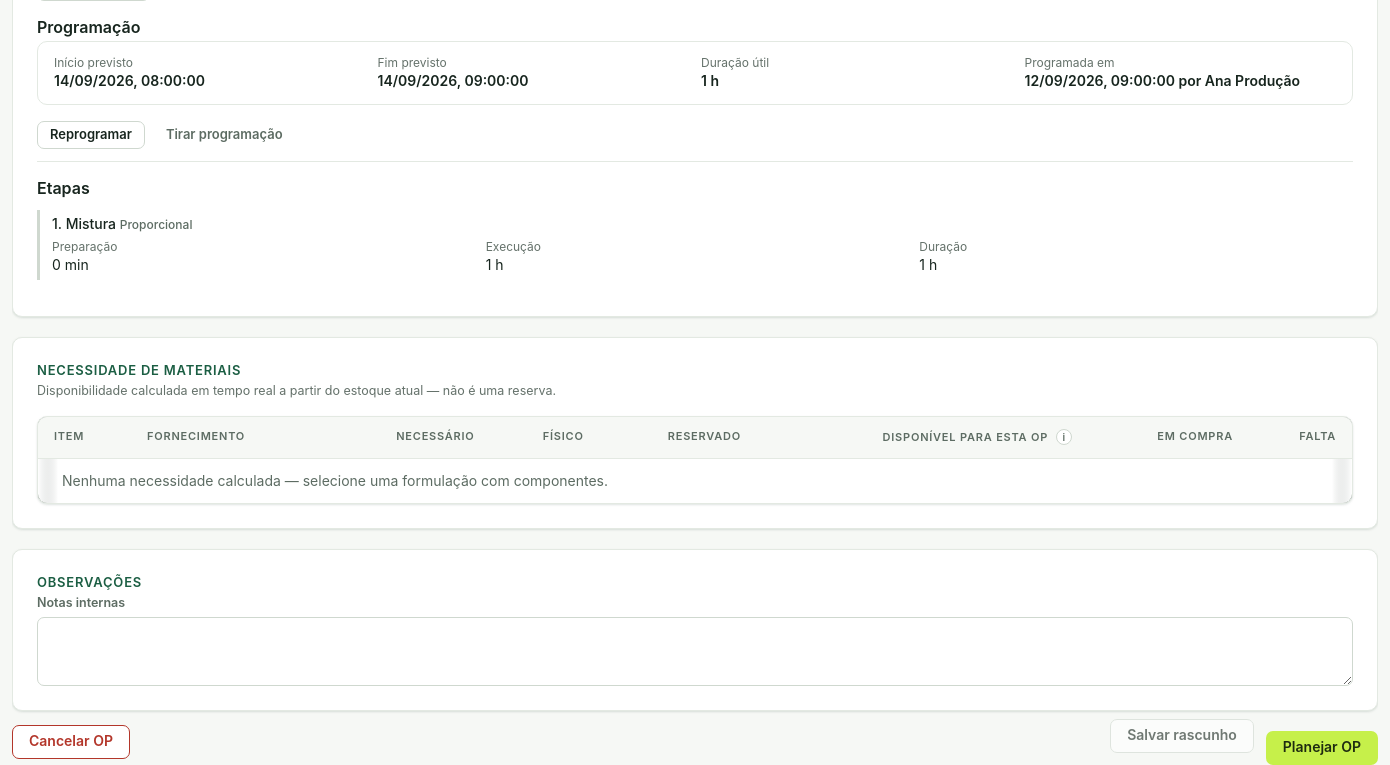
it: OP em rascunho — quando NÃO se pergunta › "Salvando…" enquanto espera, a frase só com a resposta, e salvar volta a dormir
(page scrolled)
Check: the element named "Programação da ordem" is shown, box [37,41,1353,105]
Type "Conferir embalagem" into the text box with id "op-notes".
click(695, 651); type("Conferir embalagem")  # box [37,616,1353,686]
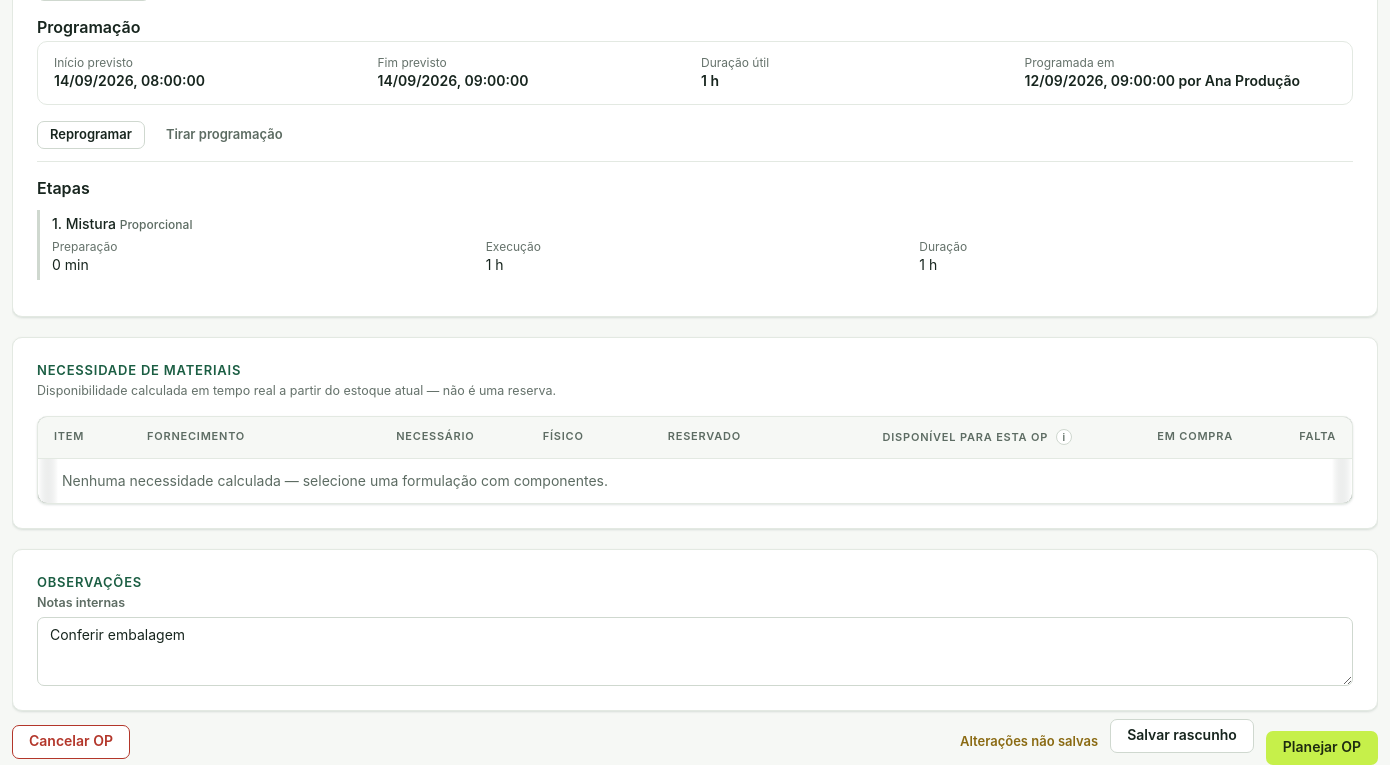
Click the button "Salvar rascunho".
click(1182, 736)  # box [1110,718,1254,752]
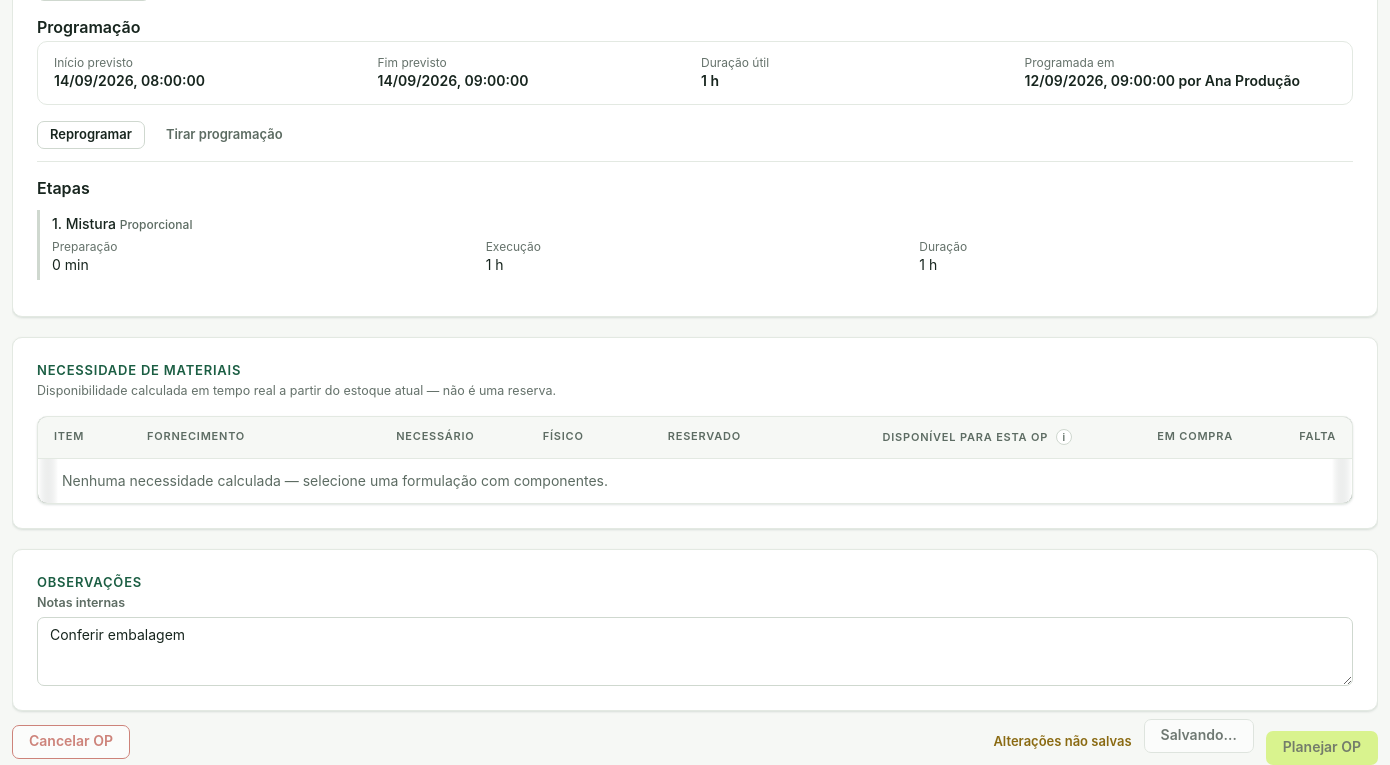
Check: the button "Salvando…" is disabled, box [1144,718,1254,752]
Clear the text box with id "op-notes" at (695, 651), box [37,616,1353,686]
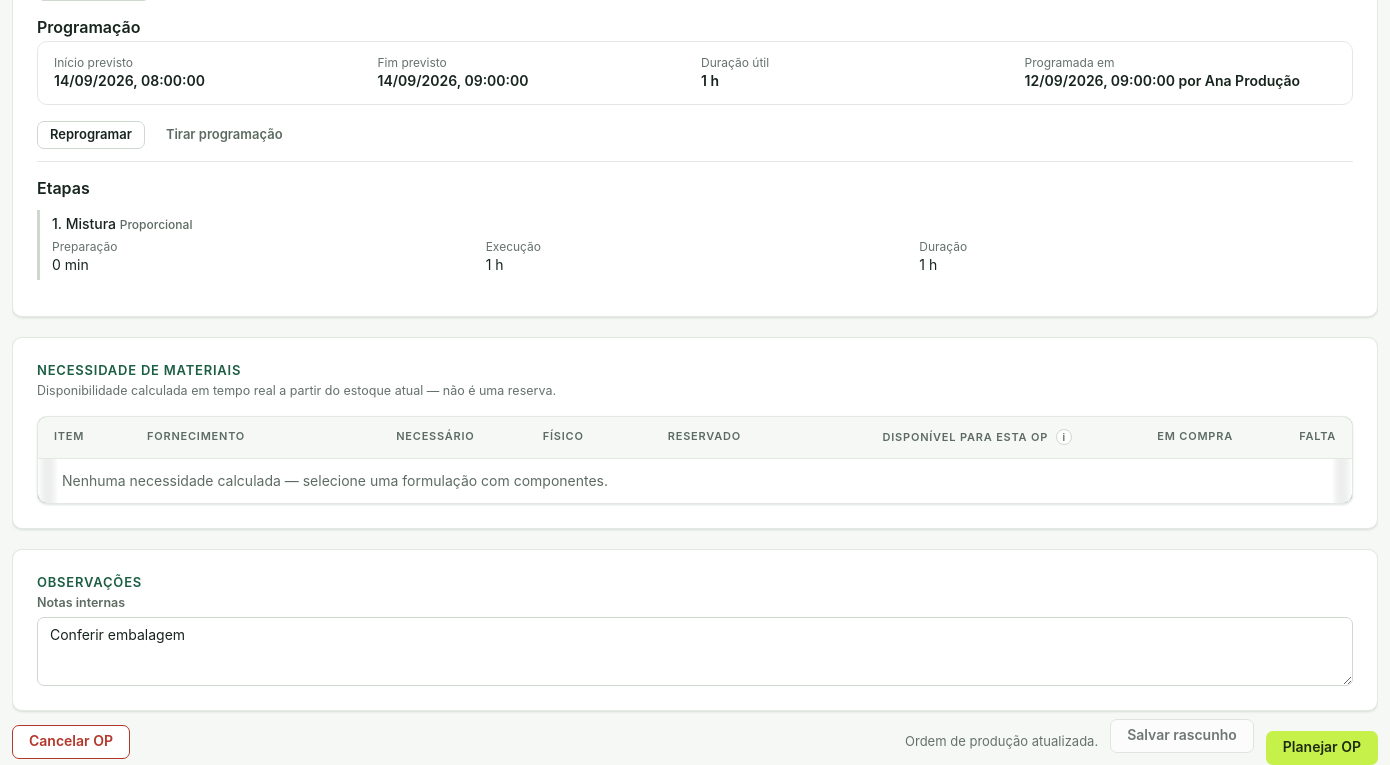
Check: the button "Salvar rascunho" is disabled, box [1110,718,1254,752]
Check: the message reads "Ordem de produção atualizada.", box [905,733,1098,749]
